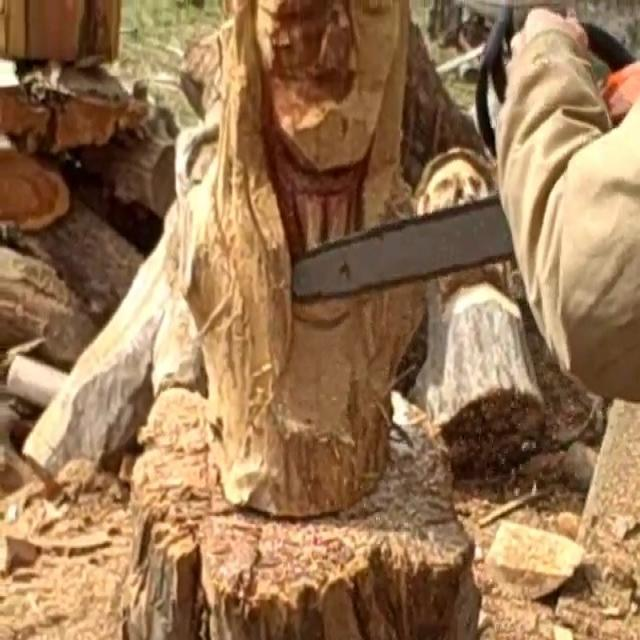Chainsaw: (278, 0, 640, 353)
